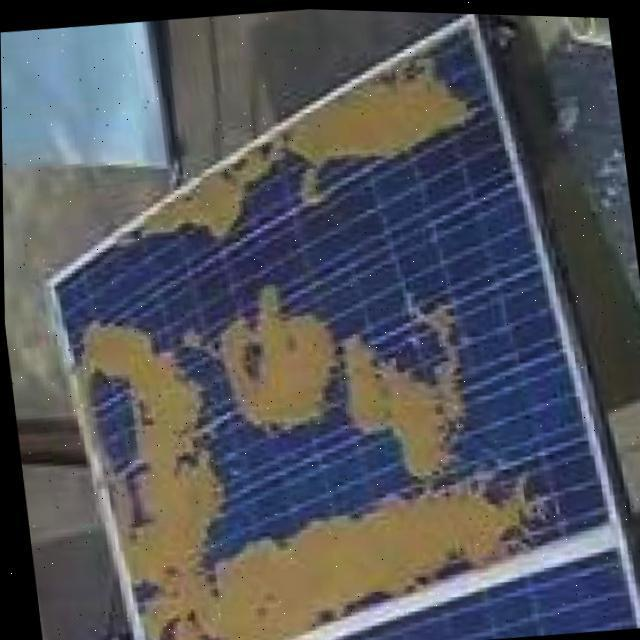Anomaly Solar Panel: (2, 18, 640, 640)
Surface Contaminant: (60, 233, 567, 640), (114, 31, 473, 298), (176, 268, 363, 450), (324, 287, 469, 476)
